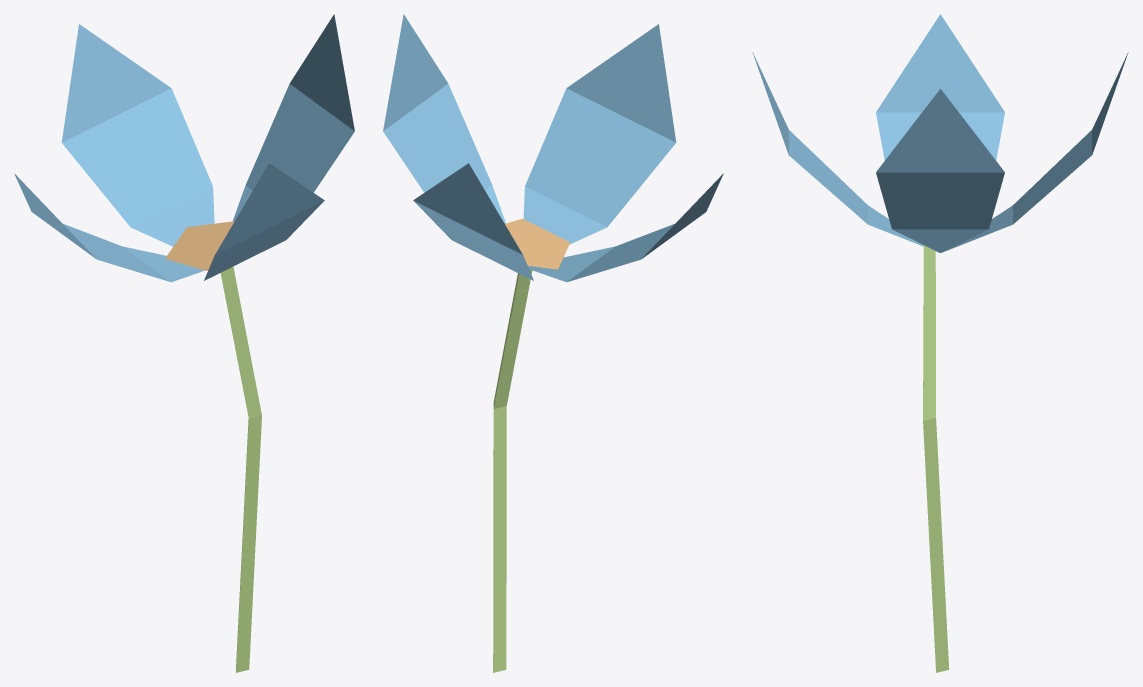
Rendered from Flower_a_TwoS_02.fbx.
3 renders of one model, left to right at view 1: azimuth 30°, elevation 25°; view 2: azimuth 150°, elevation 25°; view 3: azimuth 270°, elevation 25°, orthographic.
Parts seen in each view (by area): view 1: Flower_a_TwoS_02; view 2: Flower_a_TwoS_02; view 3: Flower_a_TwoS_02.
Part boxes in pixels (left/top/right/bottom): Flower_a_TwoS_02: left=14, top=14, right=354, bottom=672; Flower_a_TwoS_02: left=383, top=14, right=723, bottom=672; Flower_a_TwoS_02: left=752, top=14, right=1128, bottom=672.
Bounding box in the file's own units: 0.4199 × 0.7929 × 0.432.
